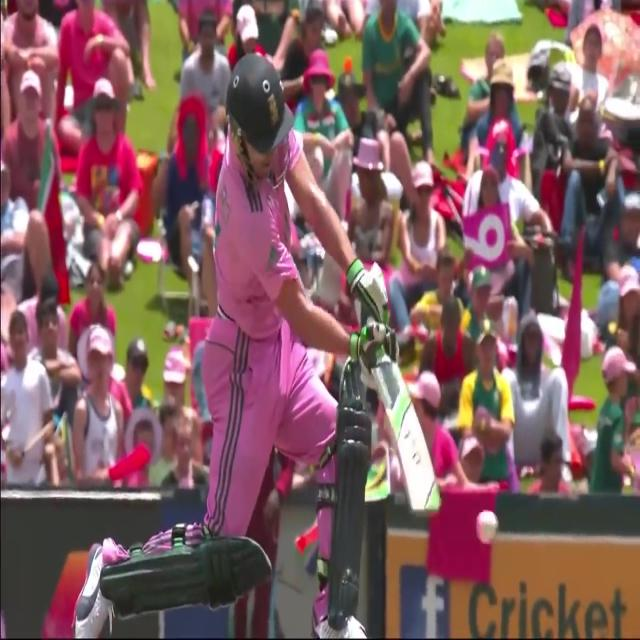Ball: (72, 52, 375, 638)
Batsman: (470, 500, 502, 549)
